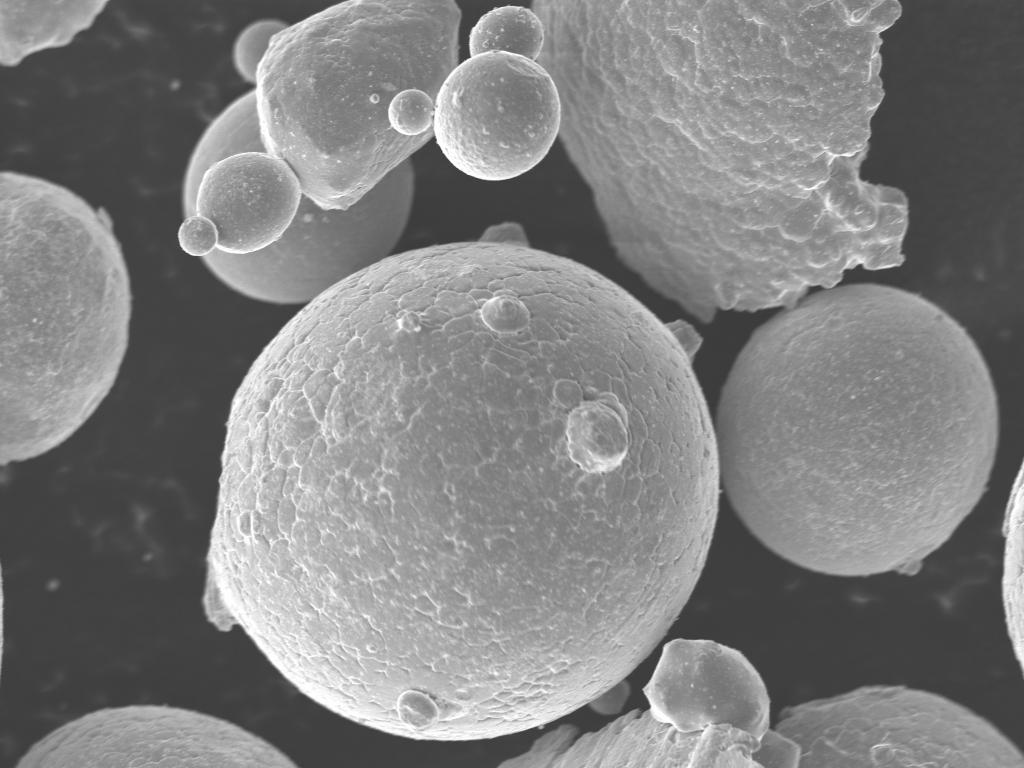Powder: (204, 224, 718, 740), (534, 0, 908, 320), (180, 0, 560, 255), (716, 284, 998, 576), (502, 638, 800, 768), (0, 172, 132, 463), (202, 160, 414, 304), (778, 686, 1024, 767), (18, 706, 296, 768), (182, 90, 266, 217), (182, 90, 264, 217), (0, 0, 106, 66), (1002, 462, 1024, 671), (234, 20, 288, 83)
